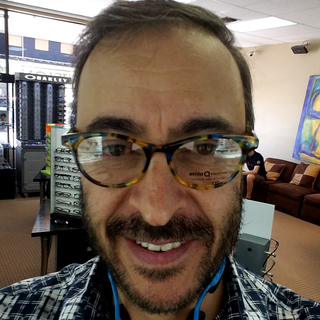eye: (92, 140, 139, 161), (182, 139, 225, 161)
